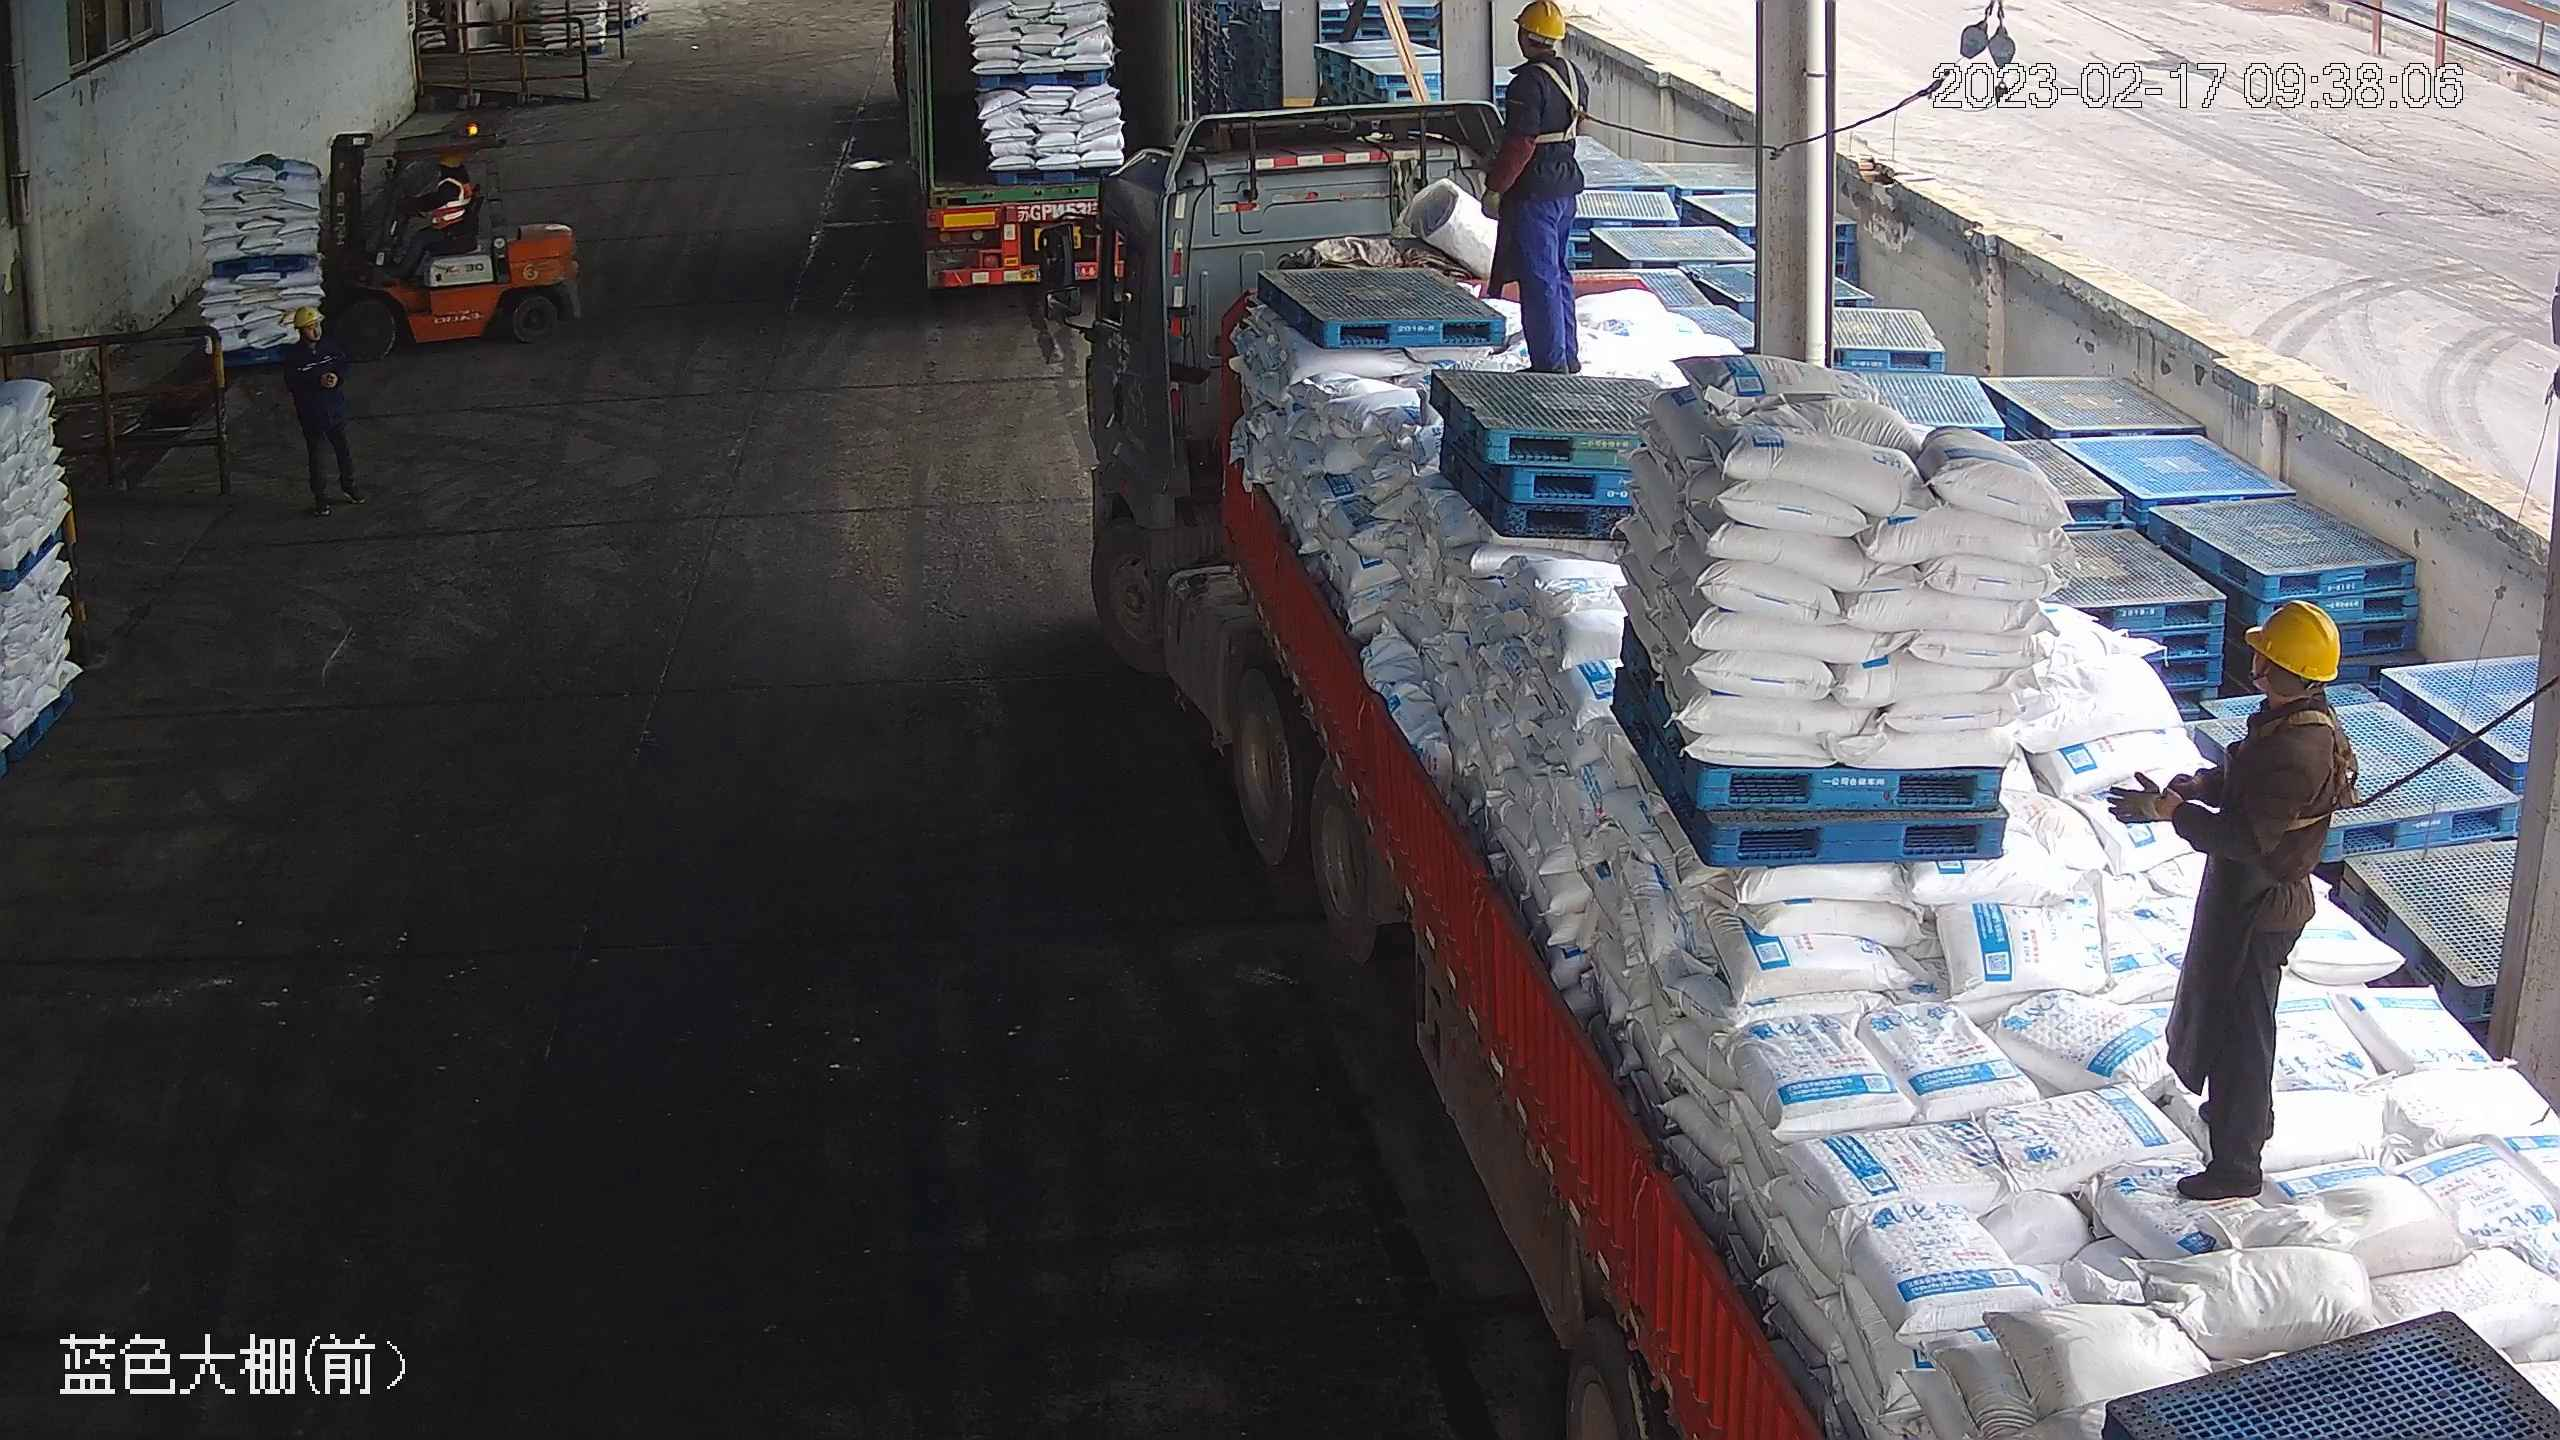belt: (2240, 701, 2366, 833), (1524, 59, 1595, 146)
head: (2230, 597, 2351, 782), (1500, 1, 1591, 101), (284, 305, 336, 371), (429, 153, 467, 196)
helmet: (2242, 597, 2341, 681), (1512, 1, 1567, 40), (293, 305, 324, 329), (436, 153, 462, 169)
people: (2098, 603, 2356, 1210), (1477, 1, 1595, 373), (283, 303, 364, 514), (397, 153, 471, 265)
truck: (1032, 97, 2553, 1439), (886, 3, 1186, 295)
